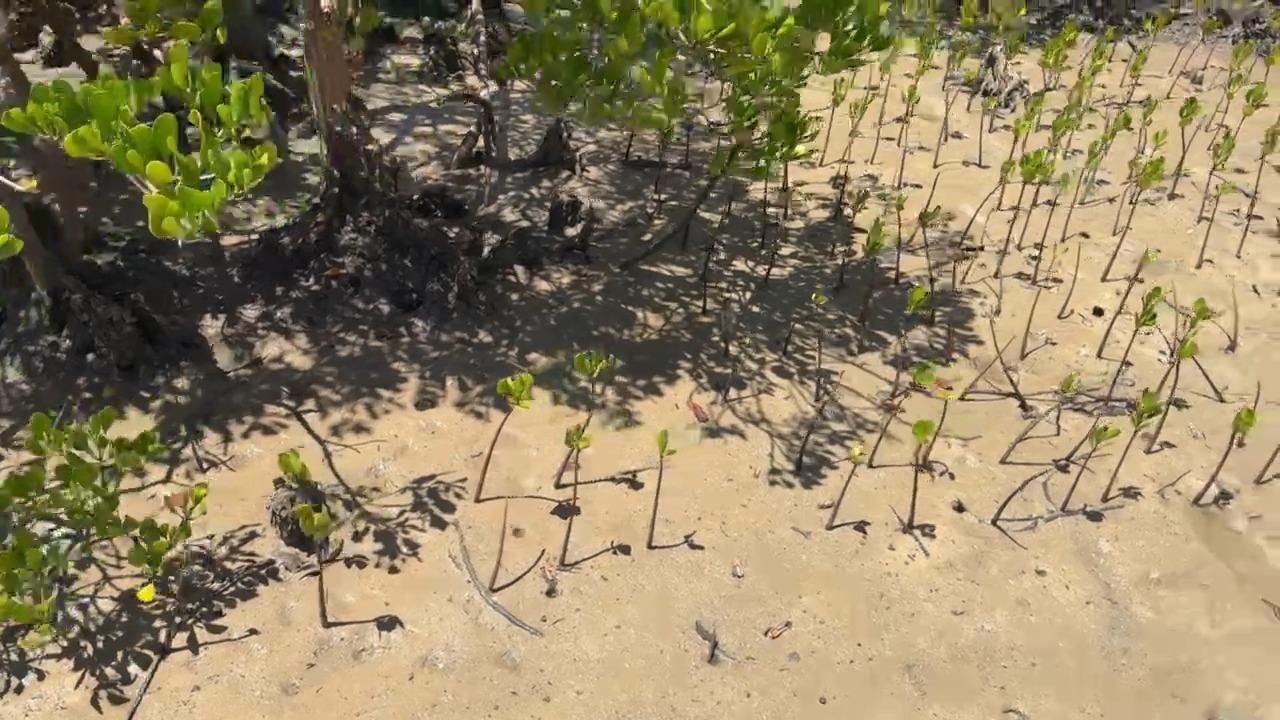Tree: (1101, 156, 1168, 279), (473, 373, 533, 504), (999, 372, 1082, 463), (555, 352, 609, 490), (996, 149, 1053, 276), (1101, 389, 1163, 504), (1097, 246, 1159, 356), (868, 364, 934, 465), (1235, 120, 1280, 261), (1193, 407, 1255, 503), (1145, 341, 1198, 451), (1157, 297, 1217, 393), (992, 458, 1072, 524), (1062, 425, 1122, 510), (958, 160, 1016, 246), (1083, 108, 1135, 202), (296, 503, 335, 627), (558, 425, 591, 564), (934, 63, 979, 163), (1205, 41, 1254, 132), (1166, 19, 1219, 98), (1062, 140, 1103, 240), (1033, 173, 1070, 282), (1034, 111, 1077, 203), (1195, 135, 1237, 223), (989, 318, 1029, 409), (959, 336, 1014, 400), (1170, 97, 1203, 198), (647, 429, 675, 546), (826, 446, 865, 530), (1196, 183, 1234, 268), (906, 419, 936, 525), (781, 293, 831, 354), (1020, 159, 1055, 244), (819, 76, 851, 167), (904, 171, 942, 246), (1110, 156, 1146, 235), (990, 37, 1020, 129), (924, 388, 957, 463), (897, 85, 921, 188), (999, 120, 1028, 205), (919, 207, 941, 319), (835, 127, 864, 211), (487, 499, 511, 592), (1233, 86, 1269, 145), (842, 97, 873, 163), (796, 402, 826, 467), (278, 448, 313, 503), (872, 73, 893, 164), (966, 50, 995, 111), (1020, 286, 1044, 357), (1059, 242, 1082, 315), (1062, 85, 1086, 154), (891, 194, 909, 282), (986, 0, 1032, 34), (1191, 356, 1224, 403), (902, 287, 925, 354), (1018, 94, 1042, 155), (977, 92, 997, 165), (945, 29, 975, 77), (1038, 42, 1067, 89), (1136, 94, 1159, 153), (1175, 121, 1202, 171), (915, 32, 938, 87), (1125, 53, 1150, 103), (1241, 380, 1261, 441), (862, 218, 885, 264), (1119, 41, 1140, 87), (1145, 10, 1169, 47), (1256, 446, 1280, 483), (1092, 23, 1116, 58), (811, 335, 823, 402), (1168, 43, 1192, 76), (1079, 62, 1104, 92), (1262, 43, 1280, 84), (1048, 241, 1069, 276), (1229, 287, 1240, 351), (1169, 280, 1178, 358), (958, 1, 982, 27), (983, 280, 1001, 311), (852, 192, 869, 223), (1152, 129, 1170, 155), (944, 85, 952, 143), (1059, 22, 1078, 43), (1204, 47, 1217, 71), (952, 261, 959, 288)
